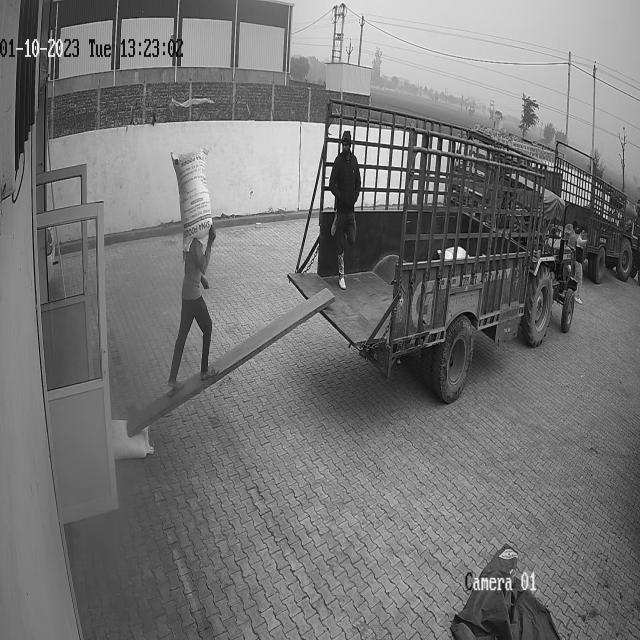sack: (170, 145, 212, 253), (112, 418, 152, 458)
